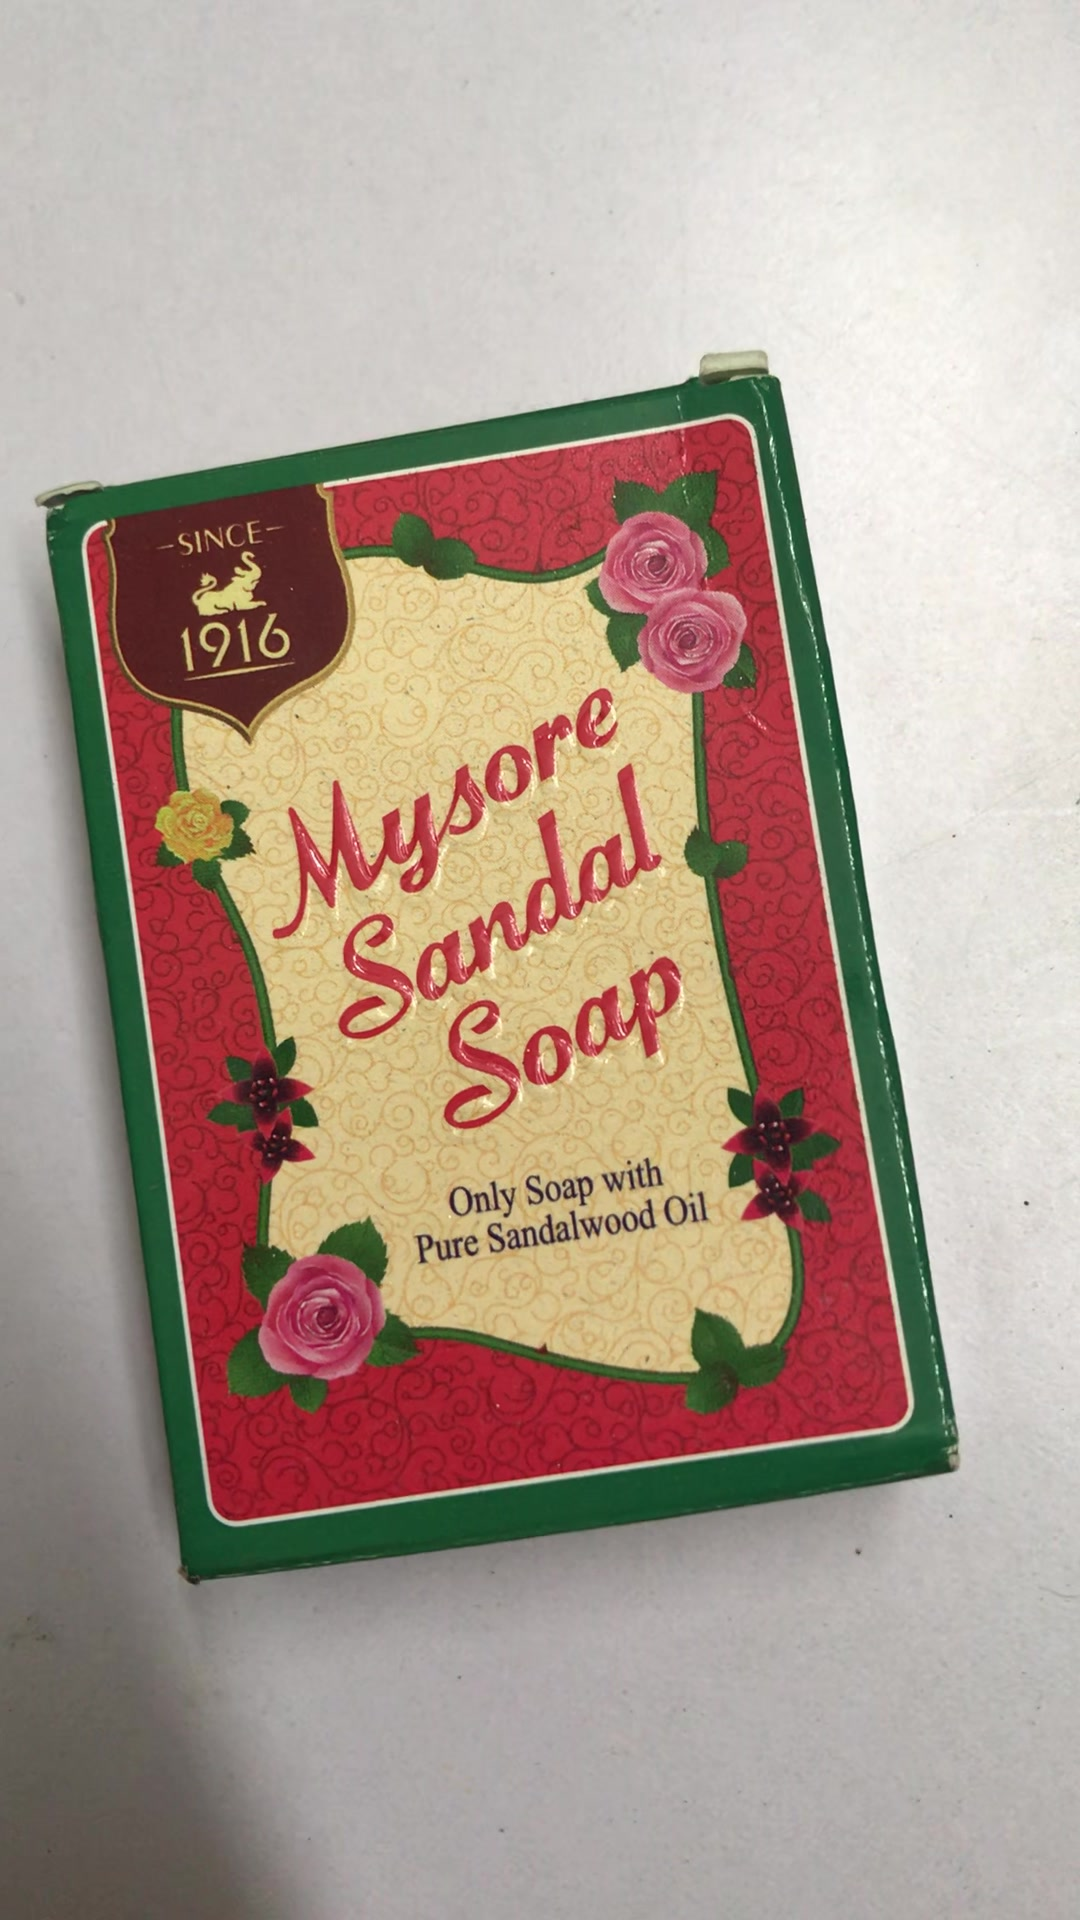mysore sandal soap: (49, 378, 963, 1592)
